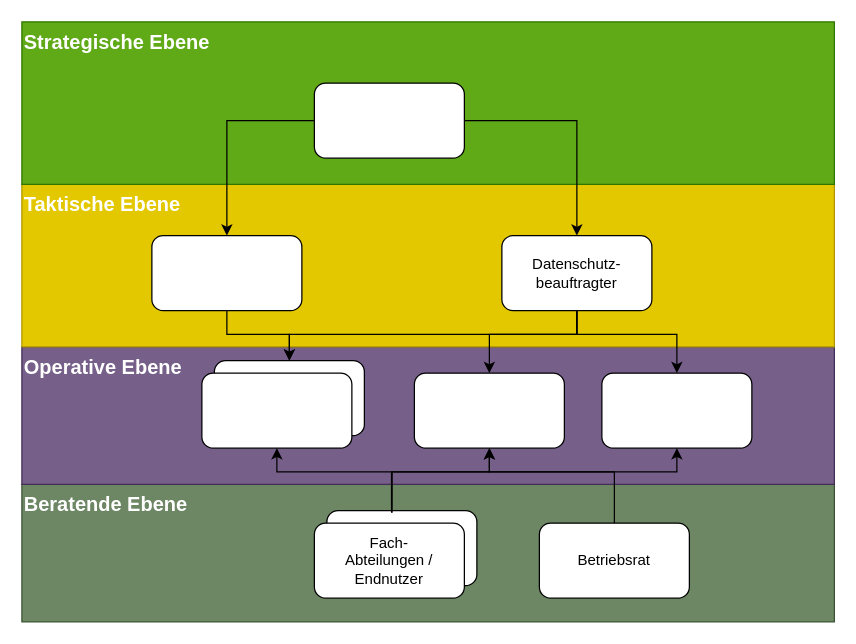
This 856x644 diagram has some shape labels left out. Each missing label, with the centre of its shape:
Computer Emergency Response Team (CERT): [676,410]
Geschäftführer: [388,120]
IT-Abteilungen / IT-Teams: [276,410]
IT-Sicherheits-beauftragter (CISO): [226,272]
Security Operations Center (SOC): [488,410]
